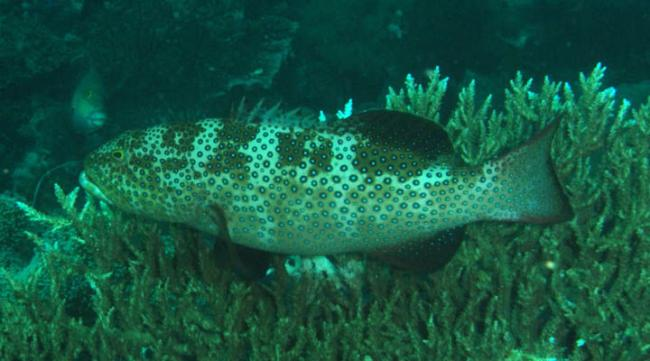fish: (82, 98, 577, 274)
